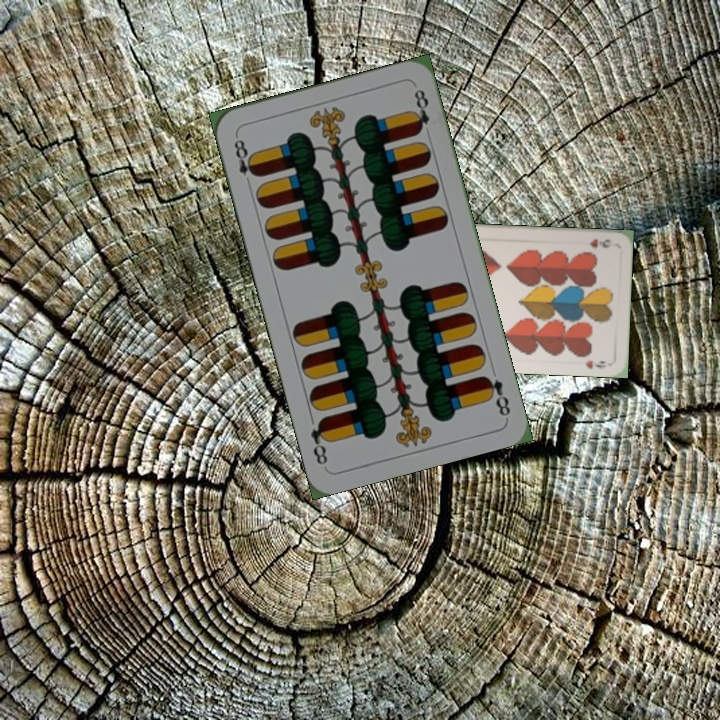E8: (230, 131, 261, 189), (479, 371, 513, 419)
H9: (585, 235, 614, 251)
